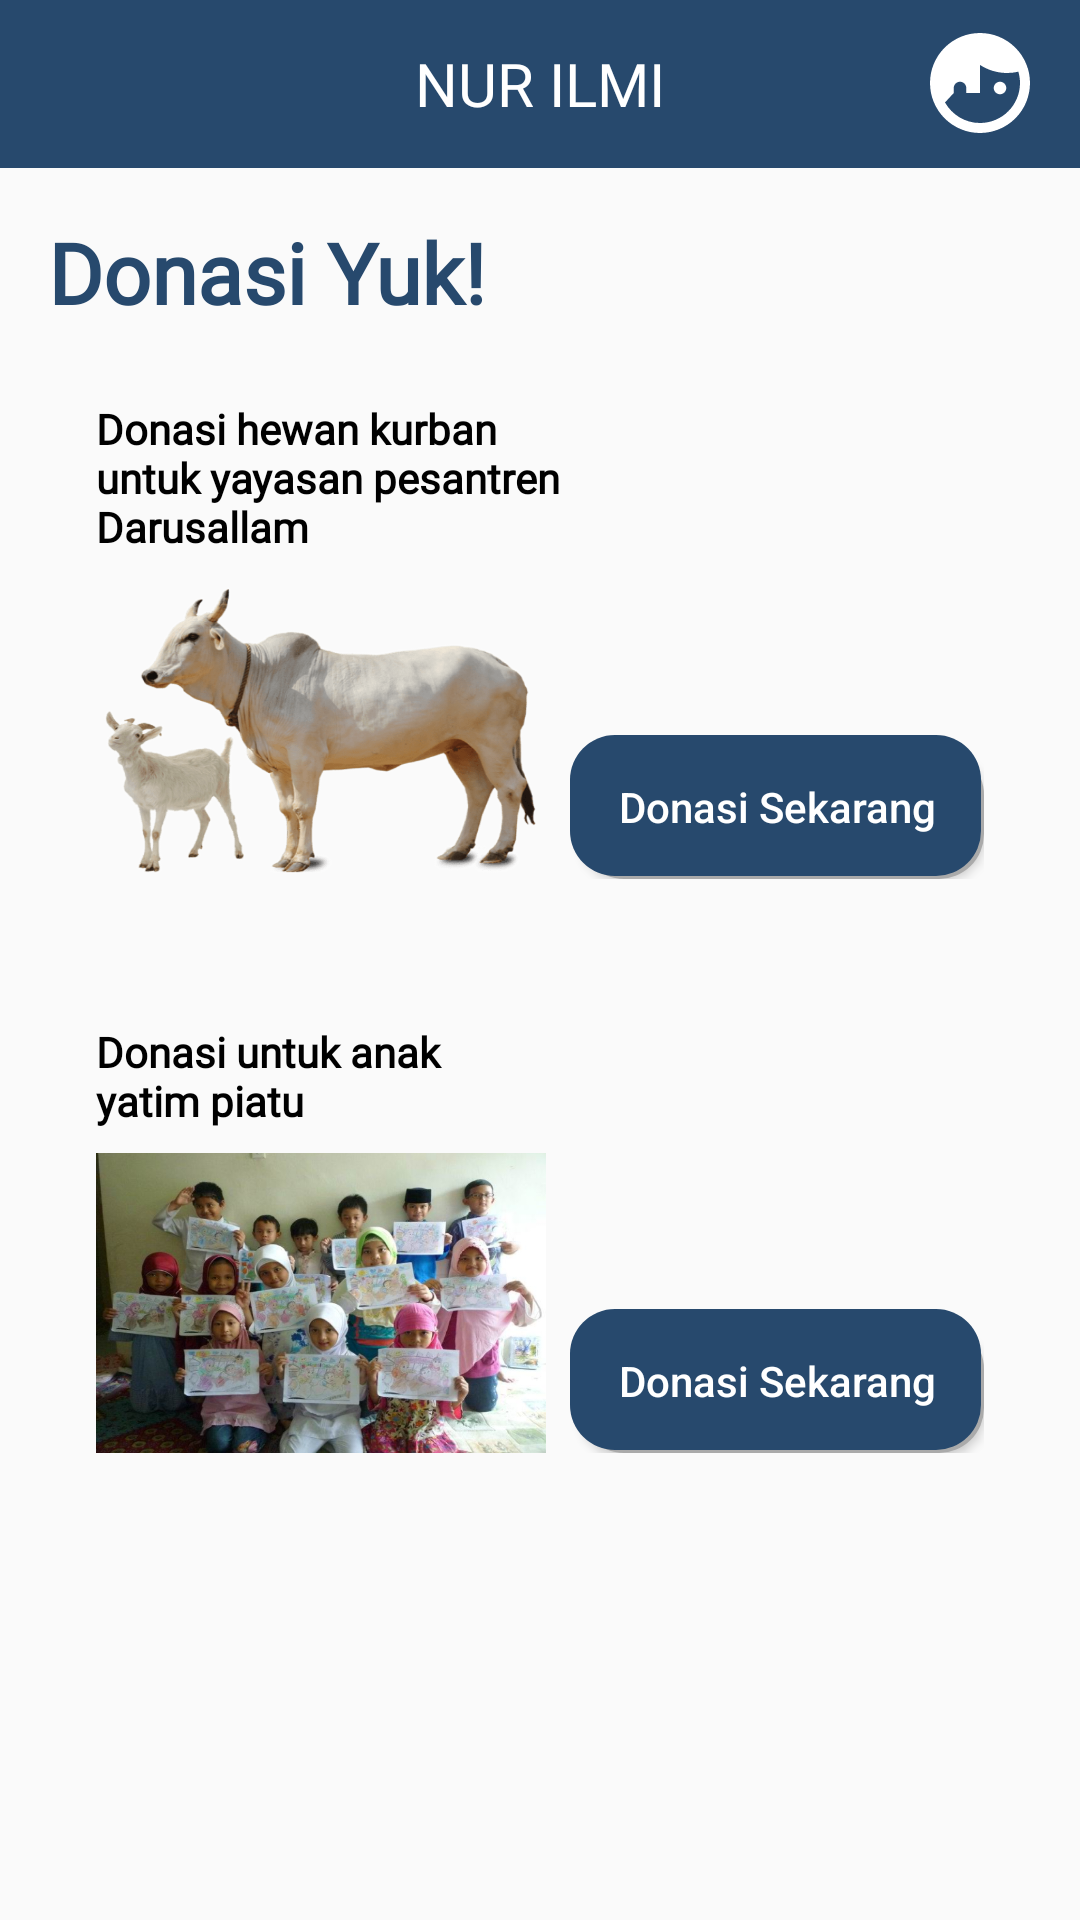

Where icons sit on this 1080*1920 app screen, as (x1, y1, x2, y2):
profile: (930, 33, 1030, 133)
